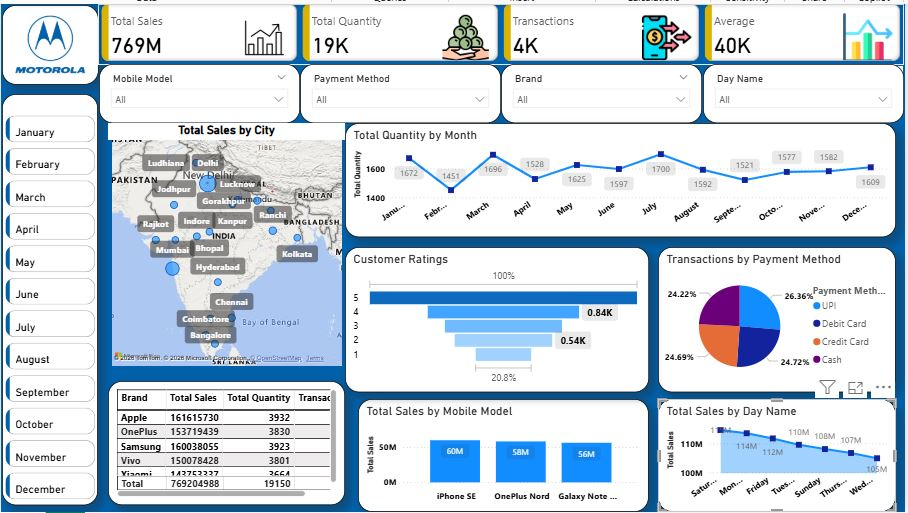

The page's visual inventory and layout, read from the dashboard file:
{"tool":"powerbi","page":{"name":"Page 1","canvas":[1280,720],"ordinal":0},"visuals":[{"type":"shape","box":[1.4,1.4,137.5,113.4],"z":0},{"type":"image","box":[14.2,2.8,112,109.1],"z":1000},{"type":"shape","box":[1.4,127.6,136.1,582.5],"z":2000},{"type":"advancedSlicerVisual","fields":{"Values":["Sales_Data_30.Date.Variation.Date Hierarchy.Month"]},"box":[1.4,153.1,137.5,557],"z":3000},{"type":"cardVisual","fields":{"Data":["Sales_Data_30.Total Sales","Sales_Data_30.Total Quantity","Sales_Data_30.Transactions","Sales_Data_30.Average"]},"box":[137.5,0,1142.4,86.5],"z":4000},{"type":"slicer","fields":{"Values":["Sales_Data_30.Mobile Model"]},"box":[138.9,85,284.9,83.6],"z":5000},{"type":"slicer","fields":{"Values":["Sales_Data_30.Payment Method"]},"box":[423.8,85,284.9,83.6],"z":6000},{"type":"slicer","fields":{"Values":["Sales_Data_30.Brand"]},"box":[708.7,85,284.9,83.6],"z":7000},{"type":"slicer","fields":{"Values":["Sales_Data_30.Day Name"]},"box":[995,85,284.9,83.6],"z":8000},{"type":"map","fields":{"Category":["Sales_Data_30.City"],"Size":["Sales_Data_30.Total Sales"]},"box":[151.7,168.7,335.9,350.1],"z":9000},{"type":"lineChart","fields":{"Y":["Sales_Data_30.Total Quantity"],"Category":["Sales_Data_30.Date.Variation.Date Hierarchy.Month","Sales_Data_30.Date.Variation.Date Hierarchy.Day"]},"box":[487.6,168.7,780.9,161.6],"z":10000},{"type":"columnChart","fields":{"Category":["Sales_Data_30.Mobile Model"],"Y":["Sales_Data_30.Total Sales"]},"box":[506,559.8,412.4,160.2],"z":11000},{"type":"pieChart","fields":{"Category":["Sales_Data_30.Payment Method"],"Y":["Sales_Data_30.Transactions"]},"box":[931.2,344.4,337.3,205.5],"z":12000},{"type":"funnel","title":" Customer Ratings","fields":{"Category":["Sales_Data_30.Customer Ratings"],"Y":["CountNonNull(Sales_Data_30.Customer Ratings)"]},"box":[487.6,344.4,430.9,205.5],"z":13000},{"type":"areaChart","fields":{"Category":["Sales_Data_30.Day Name"],"Y":["Sales_Data_30.Total Sales"]},"box":[931.2,559.8,337.3,160.2],"z":14000},{"type":"tableEx","fields":{"Values":["Sales_Data_30.Brand","Sales_Data_30.Total Sales","Sales_Data_30.Total Quantity","Sales_Data_30.Transactions"]},"box":[151.7,534.3,335.9,175.7],"z":15000}]}

Visuals, with their boxes in screenshot pixels (x1, y1, x2, y2), scaled from the page's 1280x720 canvas onto the 908x513 screenshot:
shape: pyautogui.locateOnScreen(1, 1, 99, 82)
image: pyautogui.locateOnScreen(10, 2, 90, 80)
shape: pyautogui.locateOnScreen(1, 91, 98, 506)
advancedSlicerVisual - Sales_Data_30.Date.Variation.Date Hierarchy.Month: pyautogui.locateOnScreen(1, 109, 99, 506)
cardVisual - Sales_Data_30.Total Sales x Sales_Data_30.Total Quantity: pyautogui.locateOnScreen(98, 0, 907, 62)
slicer - Sales_Data_30.Mobile Model: pyautogui.locateOnScreen(99, 61, 301, 120)
slicer - Sales_Data_30.Payment Method: pyautogui.locateOnScreen(301, 61, 503, 120)
slicer - Sales_Data_30.Brand: pyautogui.locateOnScreen(503, 61, 705, 120)
slicer - Sales_Data_30.Day Name: pyautogui.locateOnScreen(706, 61, 907, 120)
map - Sales_Data_30.City x Sales_Data_30.Total Sales: pyautogui.locateOnScreen(108, 120, 346, 370)
lineChart - Sales_Data_30.Total Quantity x Sales_Data_30.Date.Variation.Date Hierarchy.Month: pyautogui.locateOnScreen(346, 120, 900, 235)
columnChart - Sales_Data_30.Mobile Model x Sales_Data_30.Total Sales: pyautogui.locateOnScreen(359, 399, 651, 512)
pieChart - Sales_Data_30.Payment Method x Sales_Data_30.Transactions: pyautogui.locateOnScreen(661, 245, 900, 392)
" Customer Ratings" funnel: pyautogui.locateOnScreen(346, 245, 652, 392)
areaChart - Sales_Data_30.Day Name x Sales_Data_30.Total Sales: pyautogui.locateOnScreen(661, 399, 900, 512)
tableEx - Sales_Data_30.Brand x Sales_Data_30.Total Sales: pyautogui.locateOnScreen(108, 381, 346, 506)
